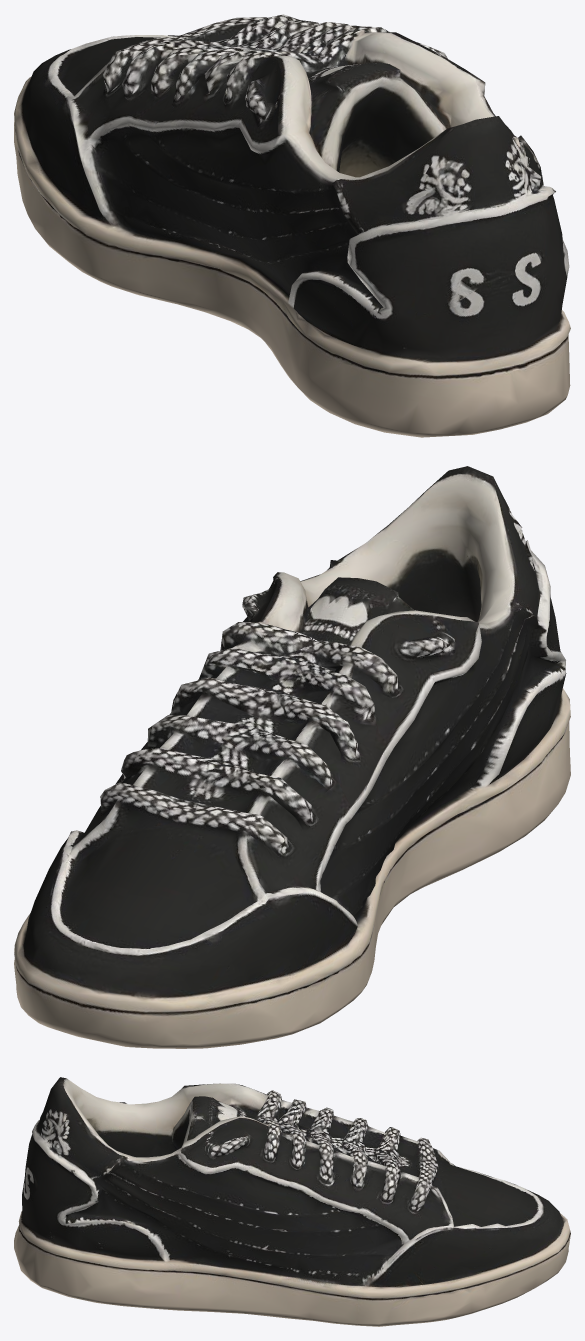
Rendered from gully-number-001-baaz-faris-black-men.glb.
The picture shows the model from 3 angles, top to bottom: view 1: azimuth 30°, elevation 25°; view 2: azimuth 150°, elevation 25°; view 3: azimuth 270°, elevation 25°; orthographic projection. The views are drawn at different scales.
Visible parts, largest first — view 1: tripo_node_ef9a7576-3add-431b-8875-f04c8cc5bcb5; view 2: tripo_node_ef9a7576-3add-431b-8875-f04c8cc5bcb5; view 3: tripo_node_ef9a7576-3add-431b-8875-f04c8cc5bcb5.
Boxes of the visible parts, x1,y1,x2,y2 form: tripo_node_ef9a7576-3add-431b-8875-f04c8cc5bcb5: (14,14,570,437); tripo_node_ef9a7576-3add-431b-8875-f04c8cc5bcb5: (14,466,570,1048); tripo_node_ef9a7576-3add-431b-8875-f04c8cc5bcb5: (14,1077,570,1326).
Bounding box in the file's own units: 0.3902 × 0.3948 × 1.
Materials: 1 (1 with a texture image).
